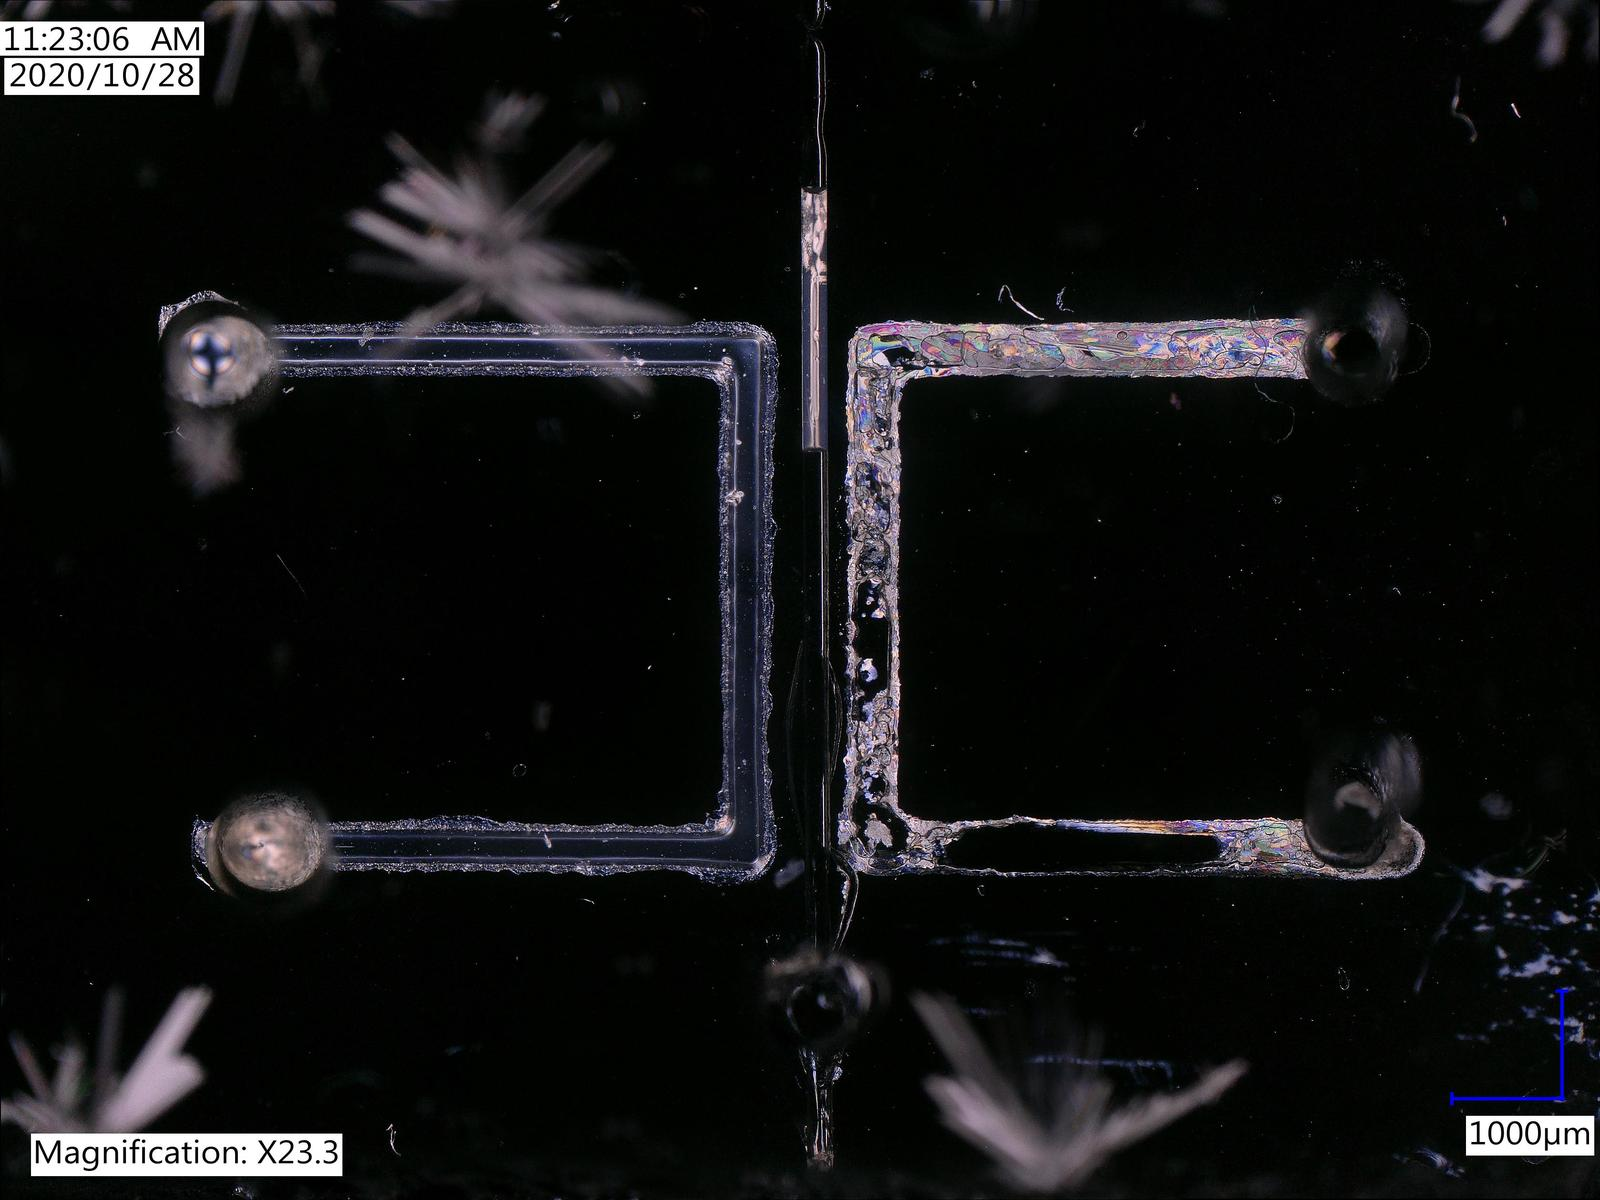sediment: (853, 691, 891, 773), (853, 366, 894, 418), (905, 821, 956, 862), (850, 517, 894, 550), (860, 817, 892, 847)
